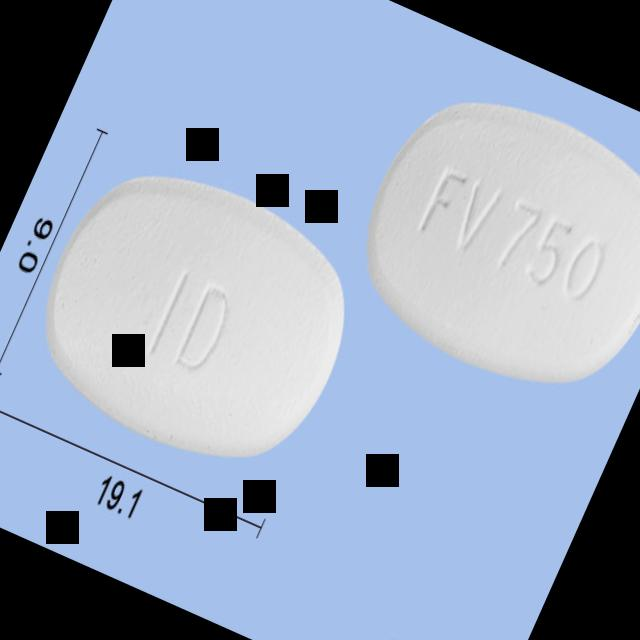Famvir -750mg: (9, 136, 385, 498), (328, 62, 640, 422)
